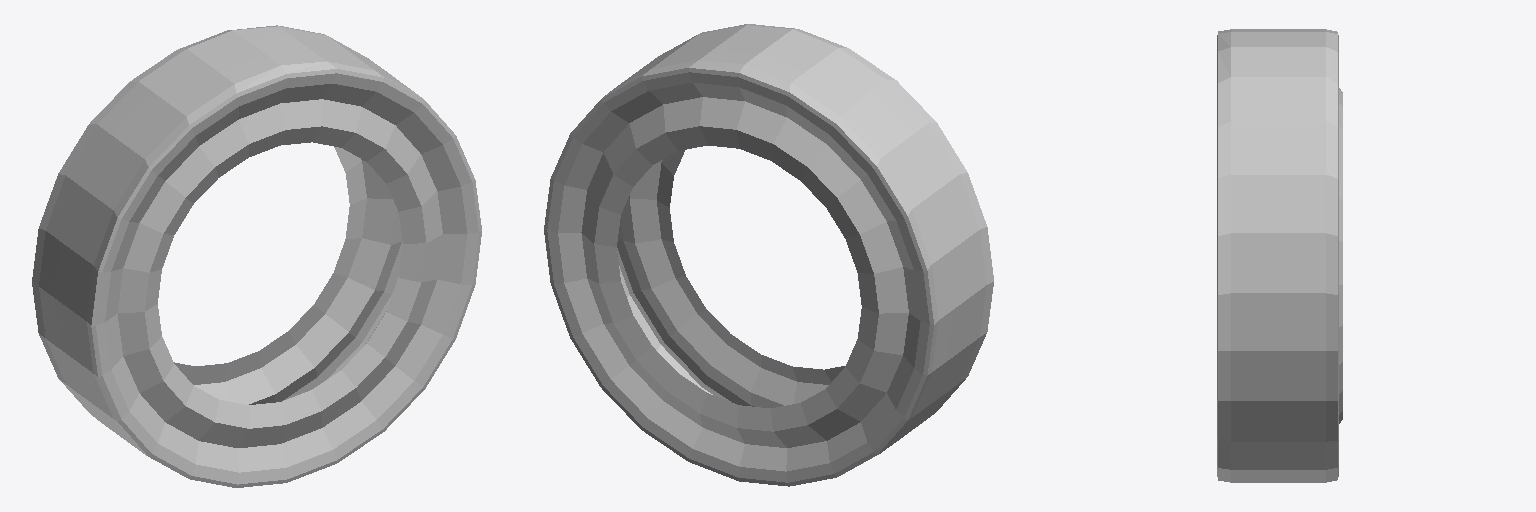
Rendered from Tire.obj.
3 renders of one model, left to right at view 1: azimuth 30°, elevation 25°; view 2: azimuth 150°, elevation 25°; view 3: azimuth 270°, elevation 25°, orthographic.
Parts seen in each view (by area): view 1: polySurface4 polySurface1 loftedSurface2; view 2: polySurface4 polySurface1 loftedSurface2; view 3: polySurface4 polySurface1 loftedSurface2.
Boxes of the visible parts, box(x1,y1,x2,y2) form: polySurface4 polySurface1 loftedSurface2: box(32, 25, 481, 487); polySurface4 polySurface1 loftedSurface2: box(544, 24, 993, 486); polySurface4 polySurface1 loftedSurface2: box(1217, 29, 1342, 482).
Bounding box in the file's own units: 4.79 × 4.89 × 1.33.